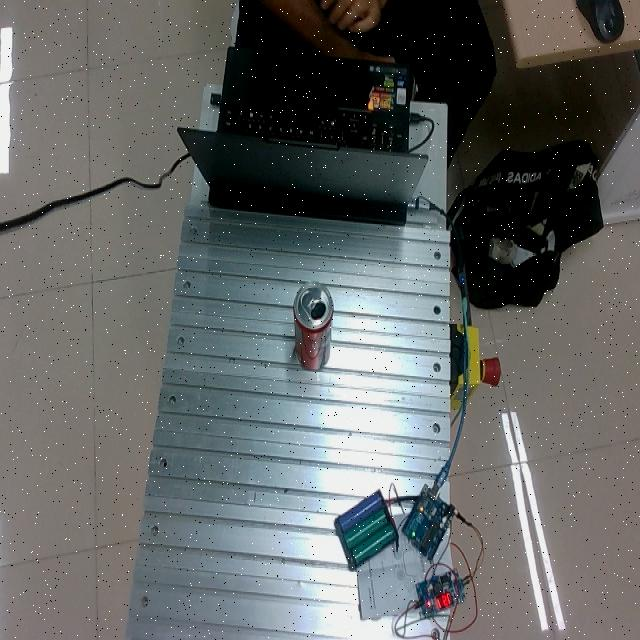coca: (293, 280, 334, 371)
